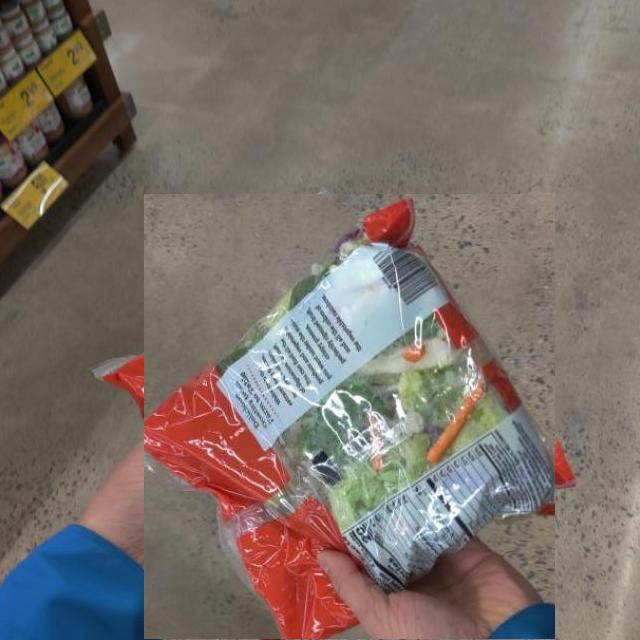Salad: (144, 193, 555, 640)
